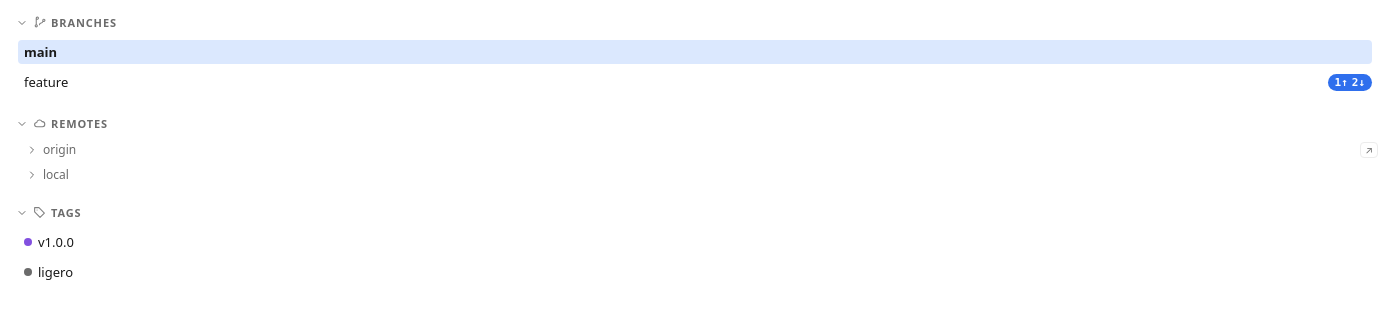
Scenario: RefsSidebar › shows branches, remotes and tags with the current one marked
This screenshot has width=1390, height=331.
Expected: the button "main" is shown, [18,40,1372,64]
Expected: the button "feature" is shown, [18,70,1324,94]
Remotes start collapsed: "origin" must be expanded to see its branches.
Step 1. Click the button "origin" → (60, 150), box [22,138,1356,161]
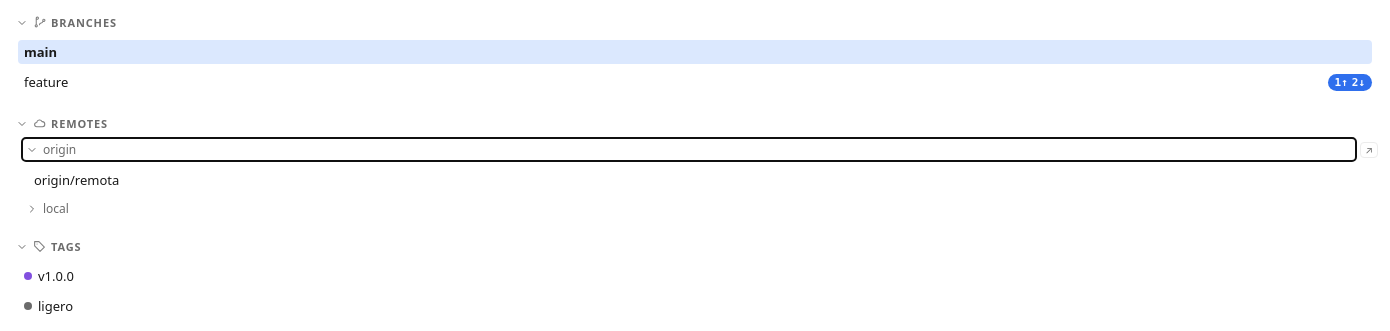
Expected: the button "v1.0.0" is shown, [18,264,1372,288]
Now the button "origin/remota" is shown, box [28,168,125,192]
